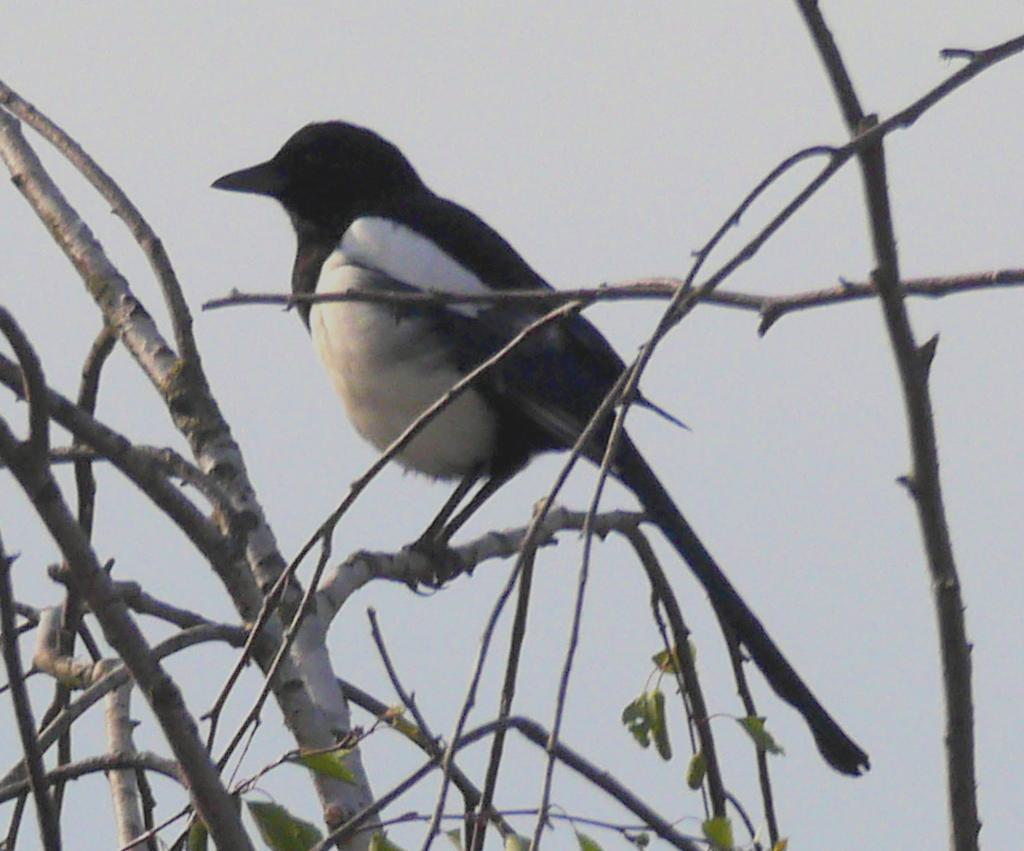PicaPica: (209, 118, 872, 778)
